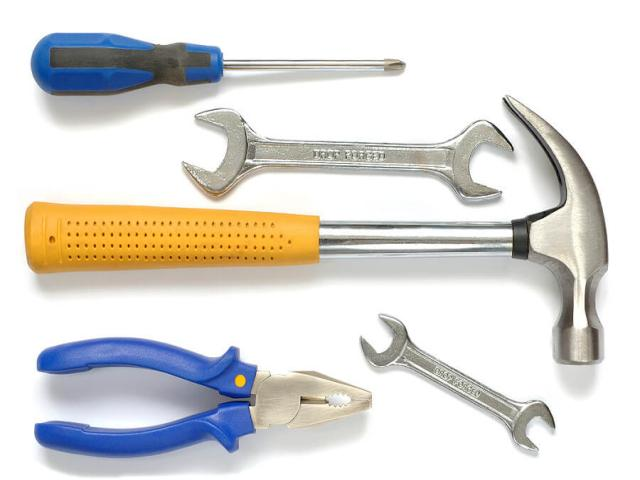Hammer: (25, 97, 608, 364)
Pliers: (35, 337, 371, 456)
Screwdriver: (31, 32, 405, 95)
Wrench: (184, 109, 514, 200), (361, 313, 555, 452)
